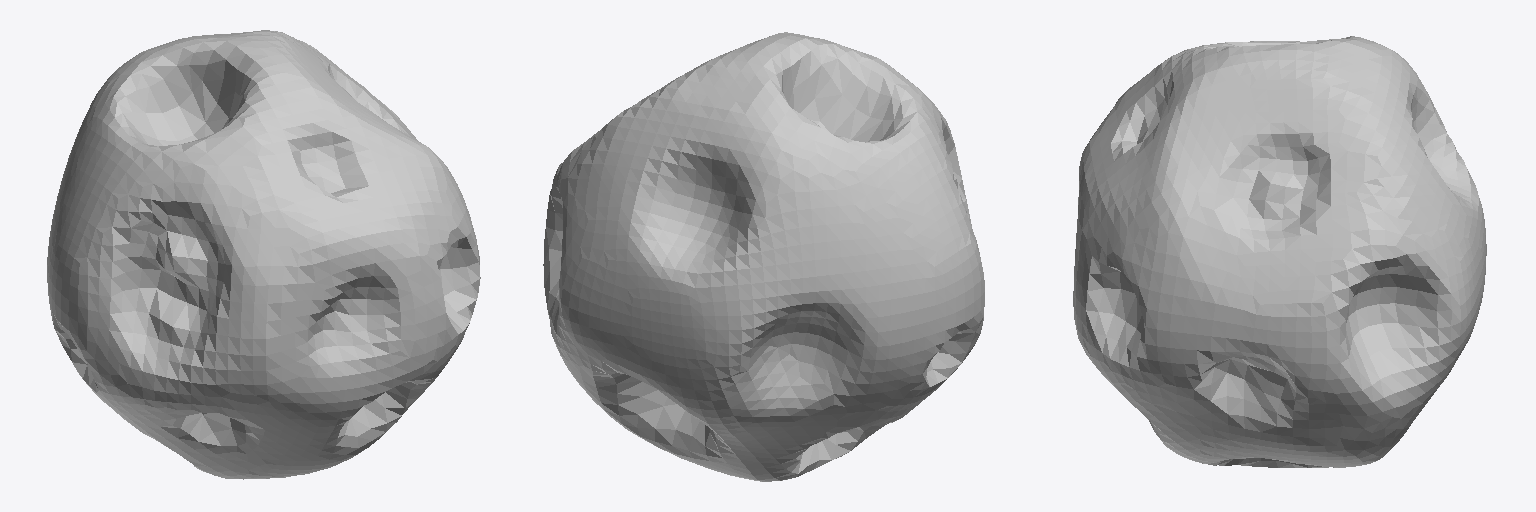
Rendered from Meteoro2.obj.
3 views of the same model, side by side, from view 1: azimuth 30°, elevation 25°; view 2: azimuth 150°, elevation 25°; view 3: azimuth 270°, elevation 25° (orthographic).
Parts seen in each view (by area): view 1: METEORO2; view 2: METEORO2; view 3: METEORO2.
Part boxes in pixels (x1,y1,x2,y2): METEORO2: (47,30,480,479); METEORO2: (543,32,984,481); METEORO2: (1073,36,1486,467).
Bounding box in the file's own units: 0.7905 × 0.7969 × 0.7183.